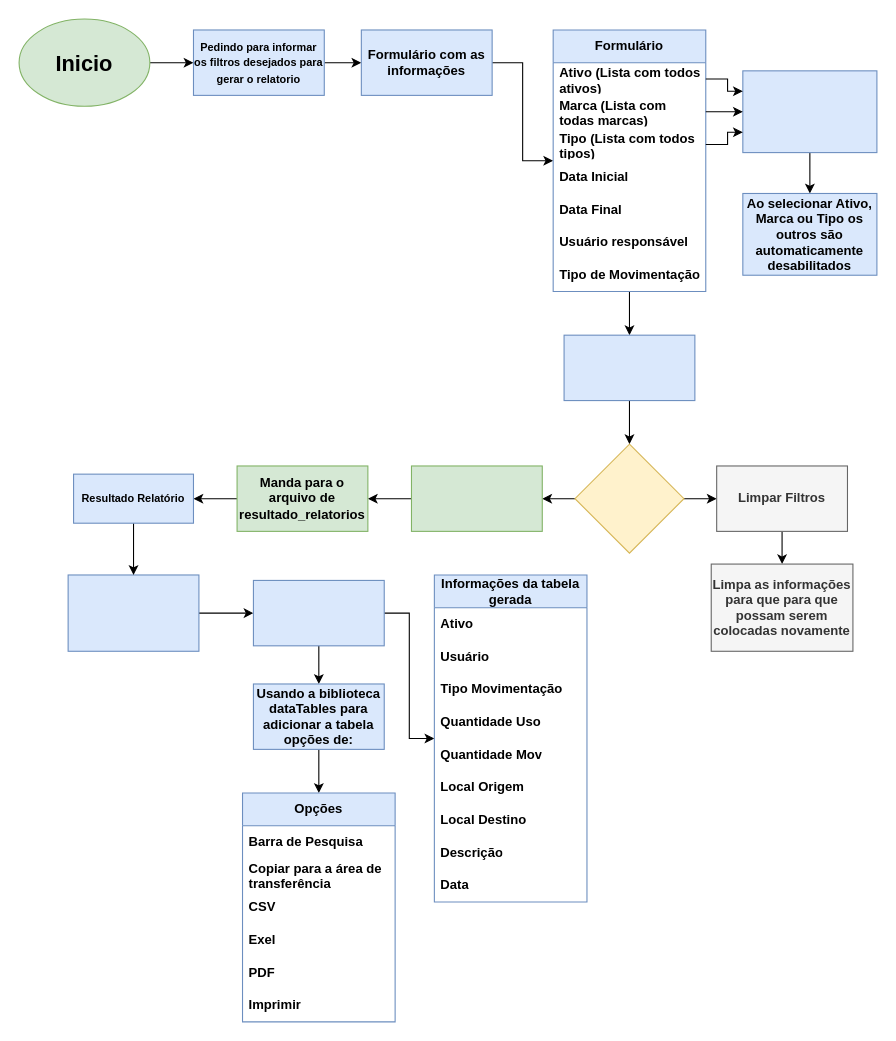
The diagram is 896 pixels wide and 1041 high, and some of its shapes have lost their labels. The centre of each missing label's shape, as x and y in pixels:
"Botões de Gerar Realatório e Limpar Filtros" goes at point 629,367.
"Gerar Relatorio" goes at point 476,498.
"O que deseja fazer?" goes at point 629,498.
"Relatório Gerado, fazendo um Select das informações anteriormente selecionadas" goes at point 133,612.
"Só é possível selecionar um de cada vez" goes at point 809,111.
"Tabela Gerada com as informações" goes at point 318,612.
